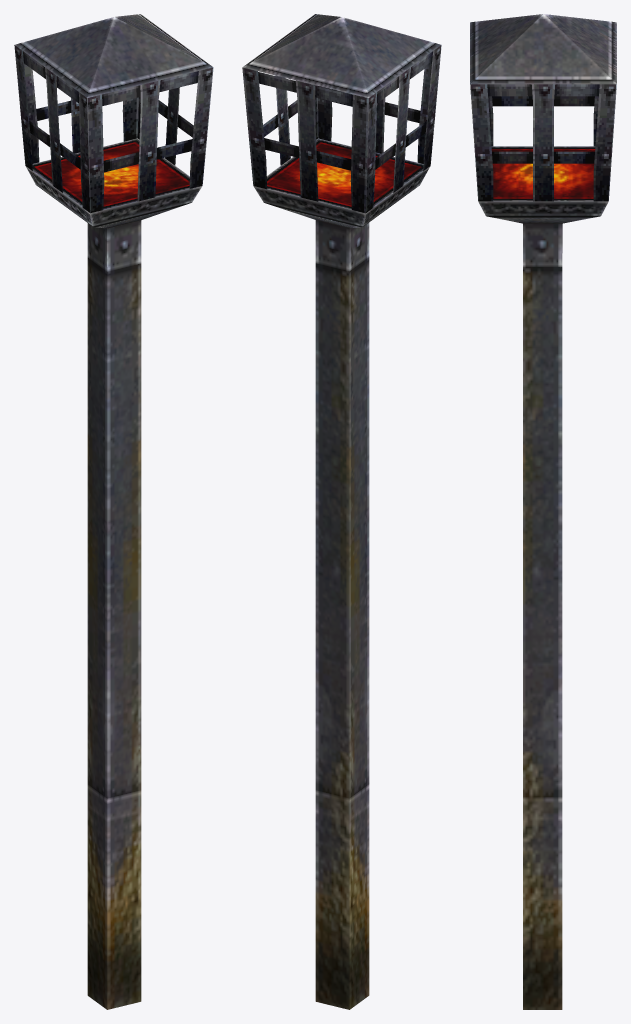
Rendered from tn3_light04.glb.
3 views of the same model, side by side, from view 1: azimuth 30°, elevation 25°; view 2: azimuth 150°, elevation 25°; view 3: azimuth 270°, elevation 25° (orthographic).
Parts seen in each view (by area): view 1: tn3_light04-col; view 2: tn3_light04-col; view 3: tn3_light04-col.
Boxes of the visible parts, left/top/right/bottom form: tn3_light04-col: left=14, top=14, right=213, bottom=1009; tn3_light04-col: left=242, top=14, right=441, bottom=1009; tn3_light04-col: left=470, top=14, right=616, bottom=1009.
Bounding box in the file's own units: 0.3721 × 2.76 × 0.3721.
2 materials, 2 textured.
